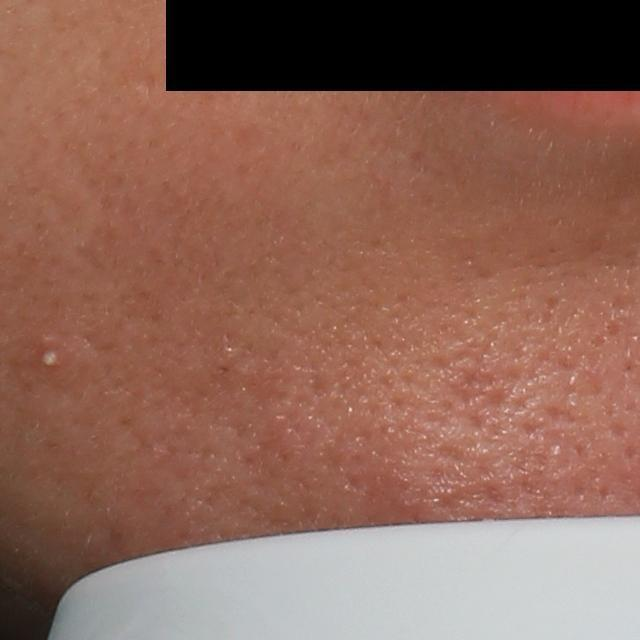pustule: (29, 342, 67, 380)
